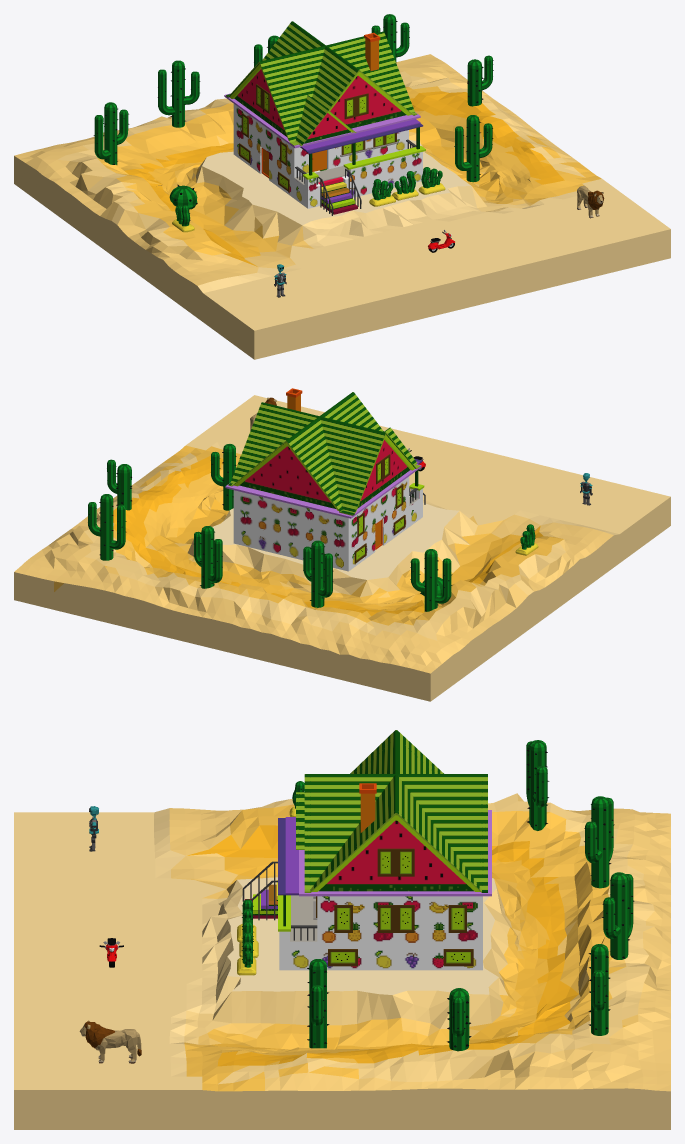
The picture shows the model from 3 angles, top to bottom: view 1: azimuth 30°, elevation 25°; view 2: azimuth 150°, elevation 25°; view 3: azimuth 270°, elevation 25°; orthographic projection. The views are drawn at different scales.
Parts seen in each view (by area): view 1: Cube.001, Cube.1063, Cylinder.037, Cylinder.044, Cylinder.045, Cylinder.038, Cylinder.042, ANIMAL_LEON, Cylinder.039, Cylinder.041, Sphere.023, Cylinder.040; view 2: Cube.001, Cube.1063, Cylinder.042, Cylinder.045, Cylinder.044, Cylinder.043, Cylinder.037, Cylinder.038; view 3: Cube.001, Cube.1063, Cylinder.043, Cylinder.044, Cylinder.045, Cylinder.042, Cylinder.037, ANIMAL_LEON, Cylinder.038, Cylinder.041.
Part boxes in pixels (<box>): Cube.001: <box>14,54,670,359</box>; Cube.1063: <box>224,21,425,215</box>; Cylinder.037: <box>454,115,493,182</box>; Cylinder.044: <box>157,60,200,127</box>; Cylinder.045: <box>93,102,129,164</box>; Cylinder.038: <box>467,55,493,106</box>; Cylinder.042: <box>371,14,409,62</box>; ANIMAL_LEON: <box>577,185,604,218</box>; Cylinder.039: <box>369,179,395,206</box>; Cylinder.041: <box>418,167,445,194</box>; Sphere.023: <box>169,184,197,209</box>; Cylinder.040: <box>392,171,418,200</box>; Cube.001: <box>14,395,670,701</box>; Cube.1063: <box>225,388,425,571</box>; Cylinder.042: <box>88,494,126,560</box>; Cylinder.045: <box>410,549,452,611</box>; Cylinder.044: <box>303,540,333,607</box>; Cylinder.043: <box>193,526,222,588</box>; Cylinder.037: <box>211,444,240,510</box>; Cylinder.038: <box>107,459,131,510</box>; Cube.001: <box>14,793,670,1129</box>; Cube.1063: <box>242,730,491,970</box>; Cylinder.043: <box>602,872,634,959</box>; Cylinder.044: <box>584,796,614,888</box>; Cylinder.045: <box>526,740,549,830</box>; Cylinder.042: <box>588,944,610,1035</box>; Cylinder.037: <box>307,959,329,1048</box>; ANIMAL_LEON: <box>79,1020,141,1063</box>; Cylinder.038: <box>447,988,471,1051</box>; Cylinder.041: <box>237,932,256,975</box>.
Bounding box in the file's own units: 4002 × 1643 × 4001.
Materials: 33 (4 with a texture image).
